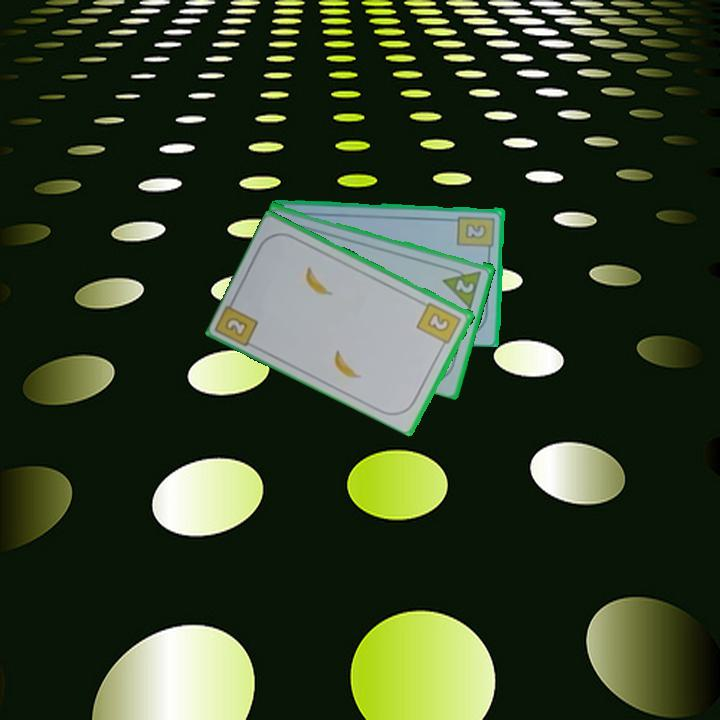2b: (414, 299, 464, 351), (455, 212, 497, 256), (222, 314, 251, 340)
2p: (452, 275, 477, 296)
